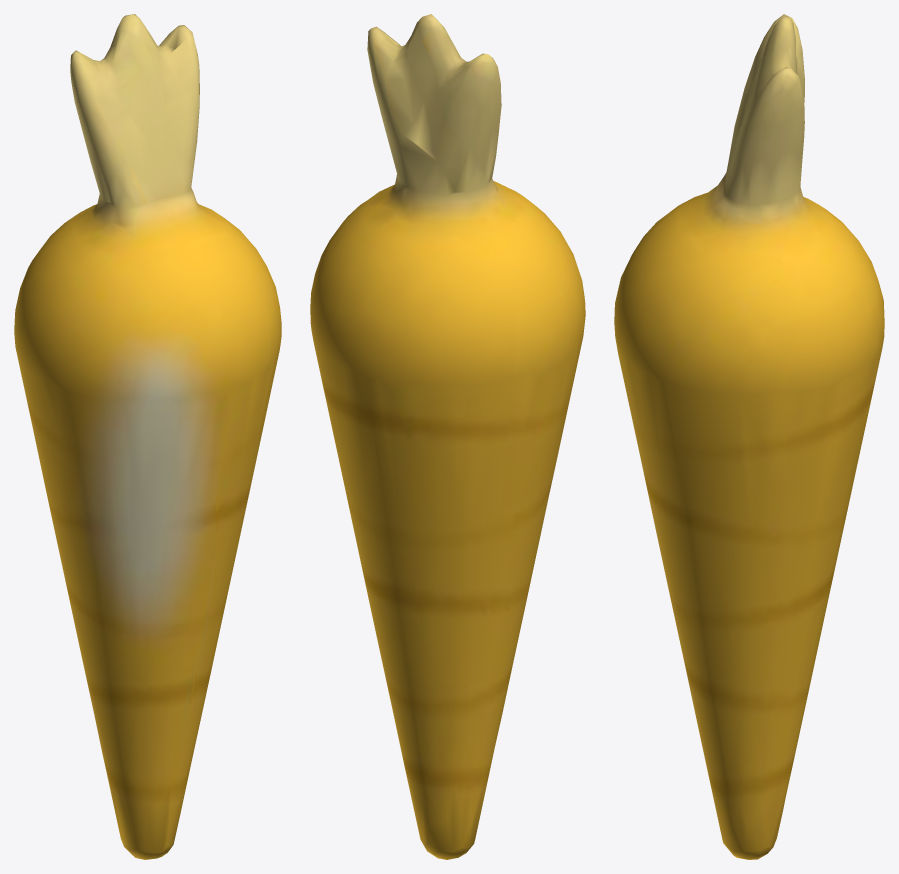
The model's file is item.goldcarrot.glb.
3 renders of one model, left to right at view 1: azimuth 30°, elevation 25°; view 2: azimuth 150°, elevation 25°; view 3: azimuth 270°, elevation 25°, orthographic. The views are drawn at different scales.
Parts seen in each view (by area): view 1: goldcarrot; view 2: goldcarrot; view 3: goldcarrot.
Boxes of the visible parts, x1,y1,x2,y2 form: goldcarrot: (14,14,281,859); goldcarrot: (310,14,585,859); goldcarrot: (614,14,884,859).
Bounding box in the file's own units: 0.2403 × 0.8229 × 0.2396.
Materials: 1 (1 with a texture image).
